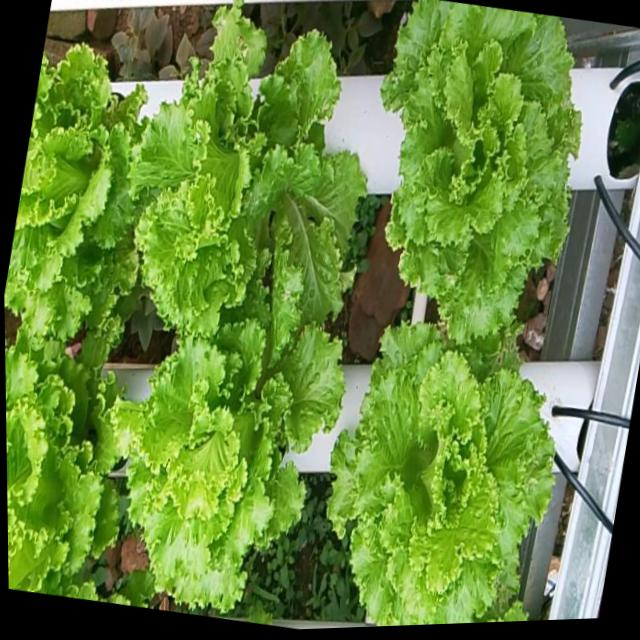Mature: (120, 0, 361, 327), (376, 0, 579, 361), (107, 297, 335, 616), (317, 329, 548, 627), (4, 31, 135, 334), (5, 324, 102, 594)
